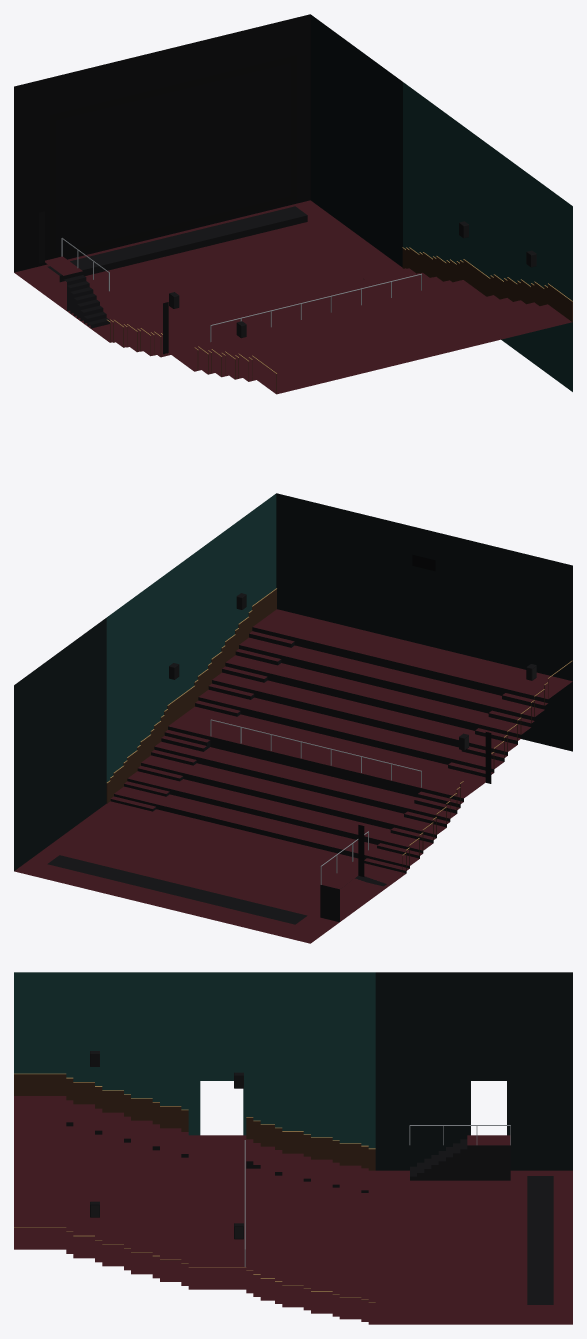
The model's file is hallIII.glb.
The picture shows the model from 3 angles, top to bottom: view 1: azimuth 30°, elevation 25°; view 2: azimuth 150°, elevation 25°; view 3: azimuth 270°, elevation 25°; orthographic projection. The views are drawn at different scales.
Visible parts, largest first — view 1: hallIII; view 2: hallIII; view 3: hallIII.
Part boxes in pixels (left/top/right/bottom): hallIII: left=14, top=14, right=572, bottom=394; hallIII: left=14, top=493, right=572, bottom=943; hallIII: left=14, top=972, right=572, bottom=1324.
Size of the model in its own units: 15.5 by 9.11 by 23.3.
